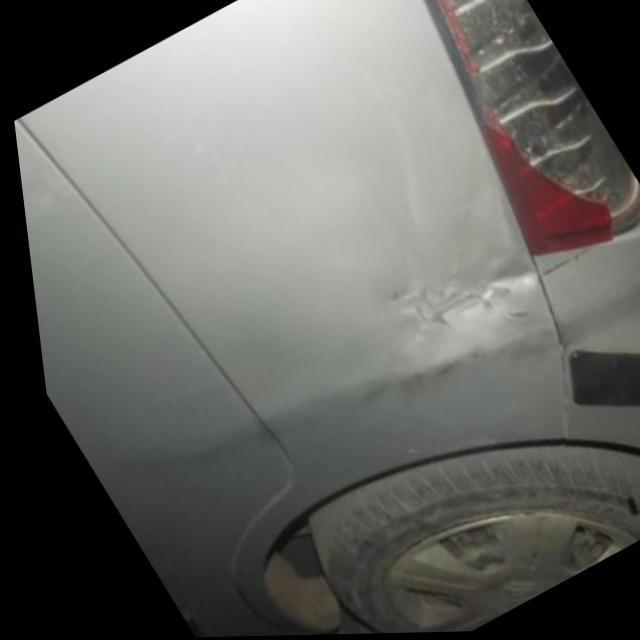dent: (362, 219, 547, 383)
lamp broken: (426, 0, 640, 254)
